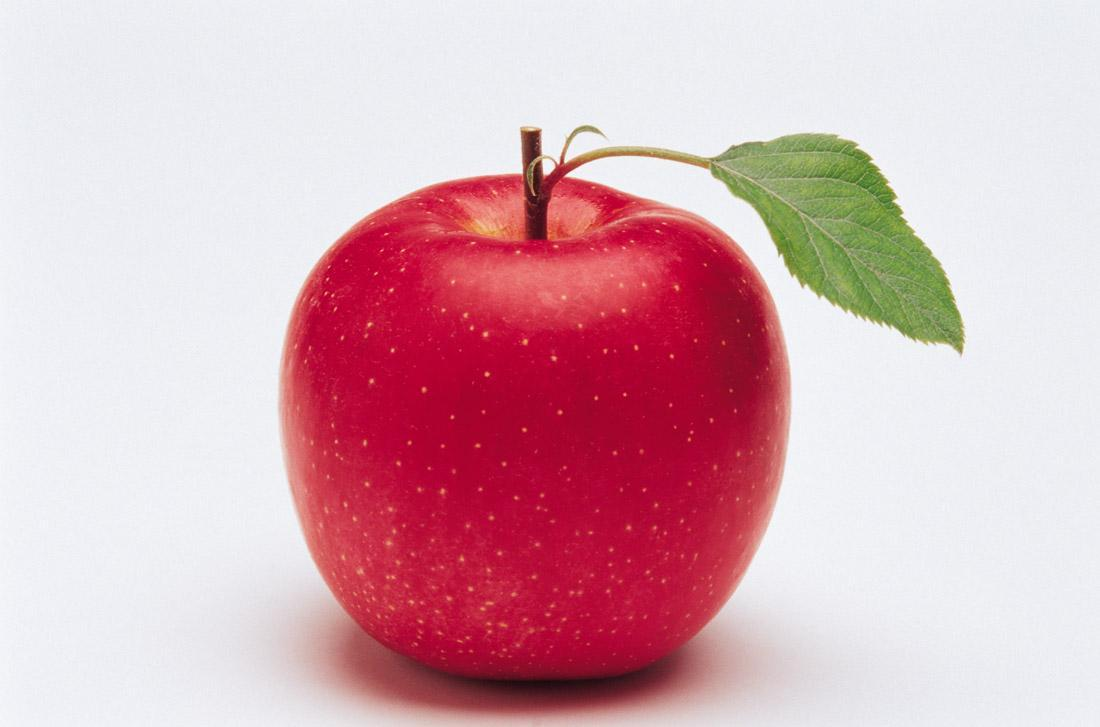apple: (282, 170, 799, 681)
